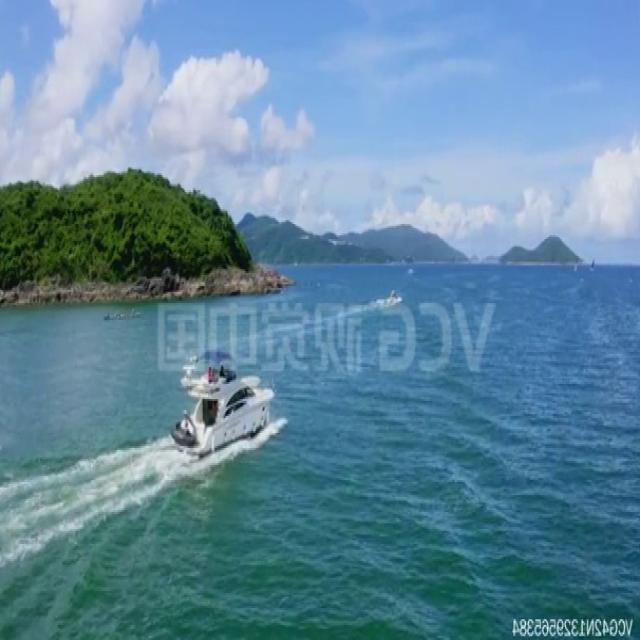houseboat: (168, 373, 274, 450), (382, 286, 404, 308)
